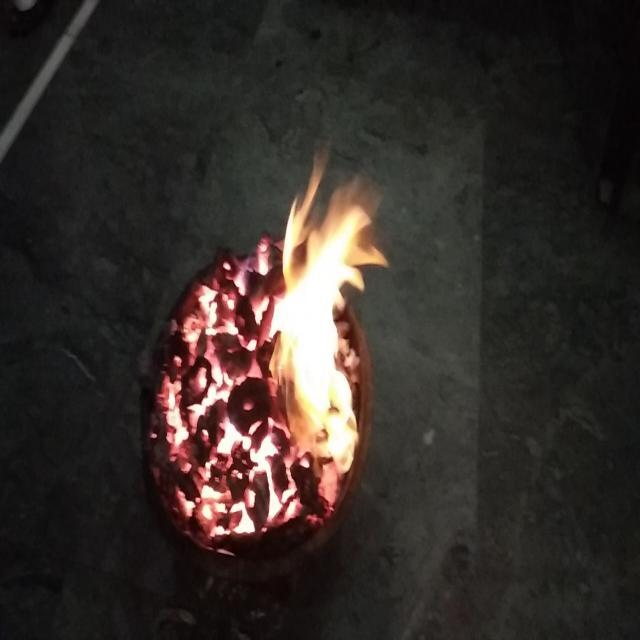Fire: (284, 214, 369, 469)
